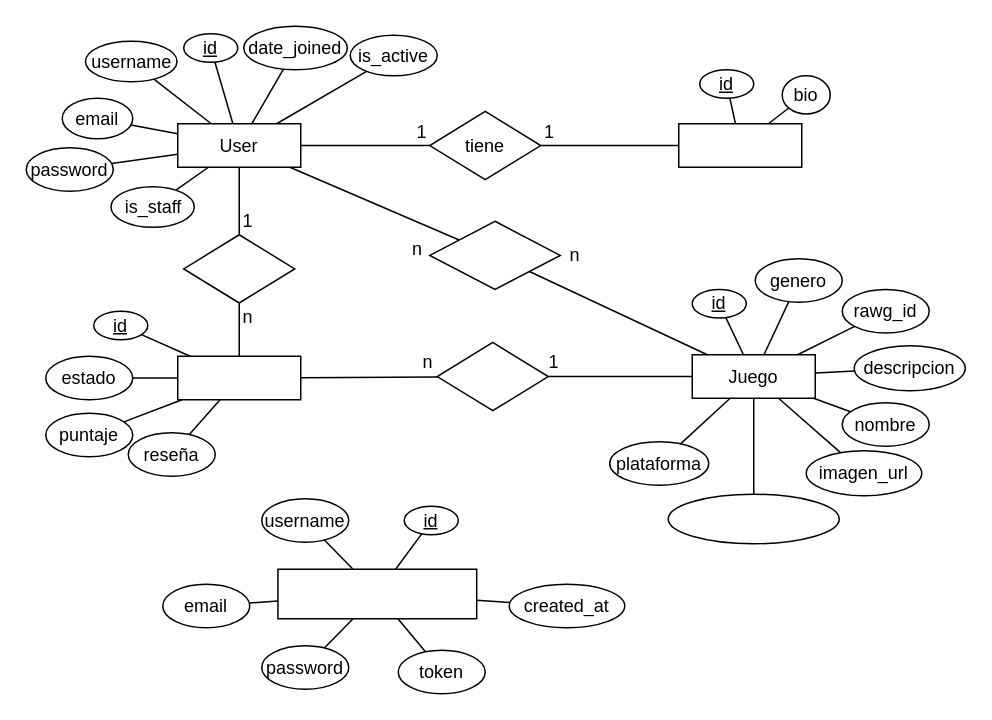
The diagram is 992 pixels wide and 720 high, and some of its shapes have lost their labels. Here are the shapes that lost their labels. From the top down, the centre of each, then its label:
point 739,144: Profile
point 238,268: agrega
point 494,255: colecciona
point 238,377: User_juego
point 492,376: incluye
point 753,518: fecha_lanzamiento
point 376,593: Pending_registration
